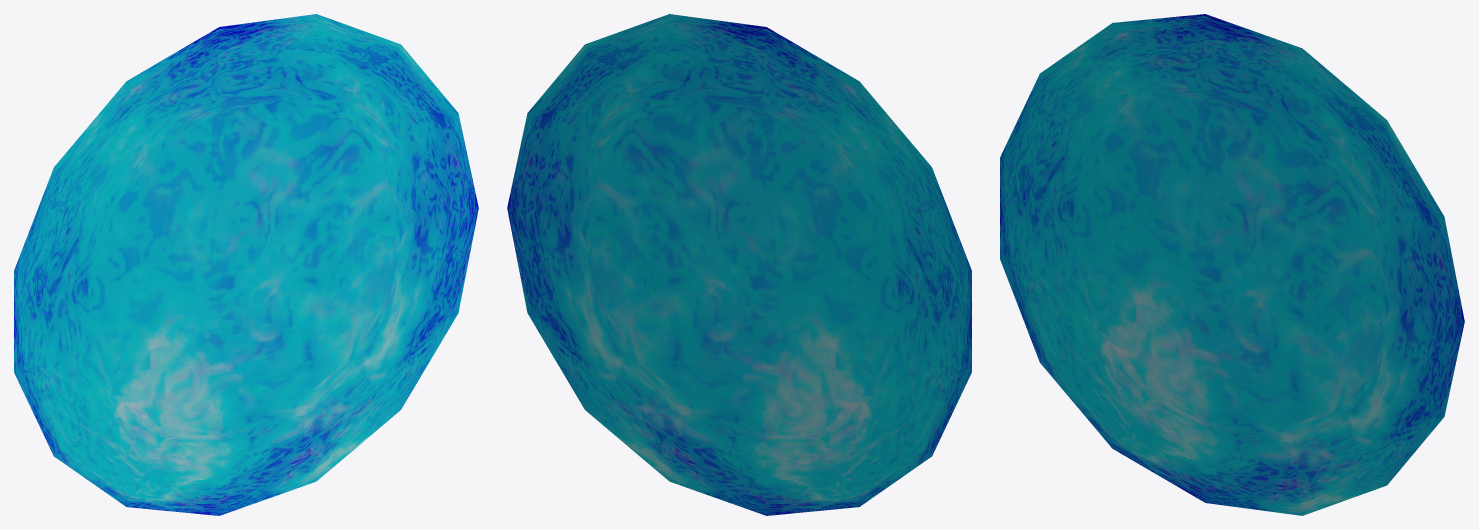
The model's file is Shield.glb.
The picture shows the model from 3 angles, left to right: view 1: azimuth 30°, elevation 25°; view 2: azimuth 150°, elevation 25°; view 3: azimuth 330°, elevation 25°; orthographic projection.
Visible parts, largest first — view 1: Shield; view 2: Shield; view 3: Shield.
Boxes of the visible parts, x1=… form: Shield: x1=14, y1=14, x2=478, y2=515; Shield: x1=507, y1=14, x2=971, y2=515; Shield: x1=1000, y1=14, x2=1464, y2=515.
Size of the model in its own units: 2.65 by 2.67 by 6.3e-06.
1 material, 1 textured.
